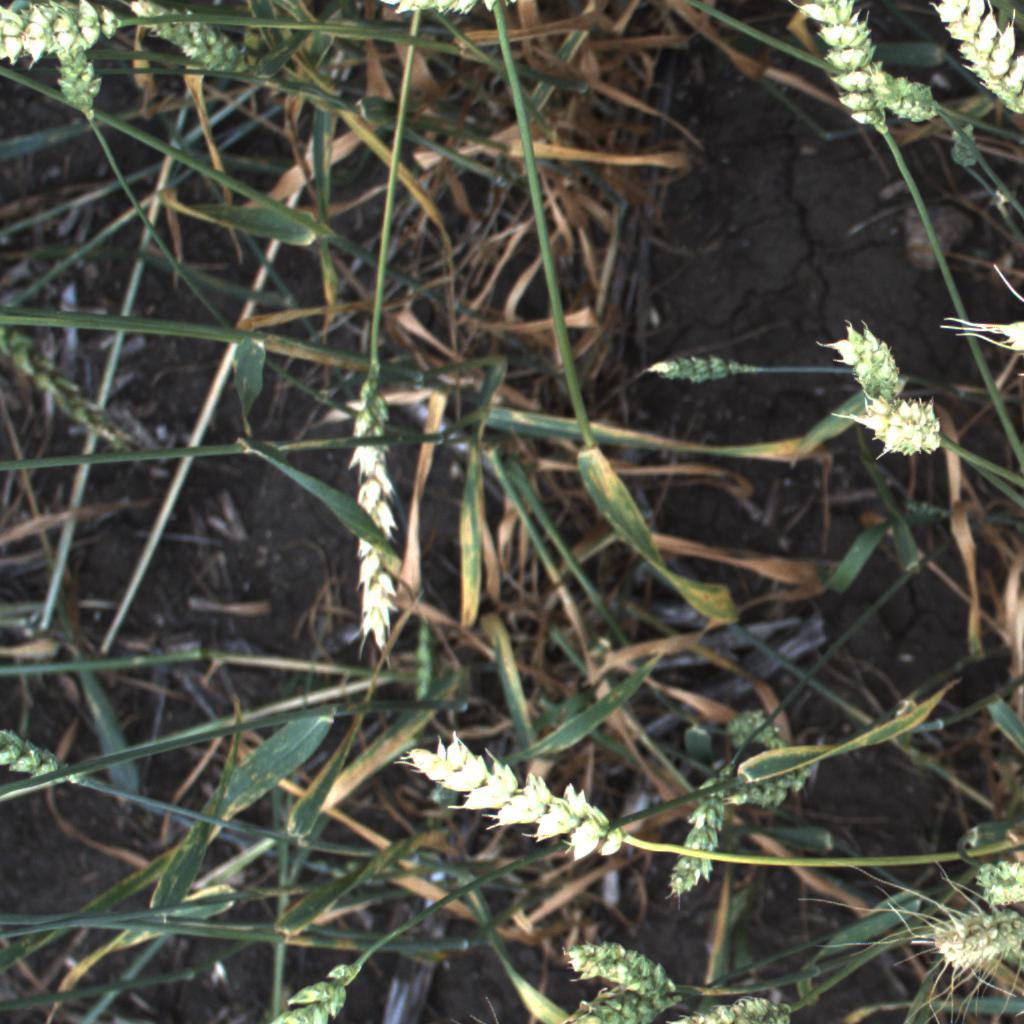0-0: (390, 710, 639, 869), (338, 350, 417, 667), (787, 0, 899, 148), (129, 0, 282, 91), (555, 924, 704, 1016), (656, 756, 742, 906), (928, 0, 1024, 120), (0, 0, 123, 92), (840, 382, 962, 473), (815, 311, 911, 412), (718, 741, 833, 817), (253, 950, 369, 1024), (919, 903, 1024, 984), (0, 723, 92, 806), (631, 342, 764, 398), (540, 979, 696, 1024), (859, 53, 949, 131), (666, 986, 811, 1024), (49, 39, 99, 122), (963, 848, 1024, 909), (933, 119, 982, 173)
